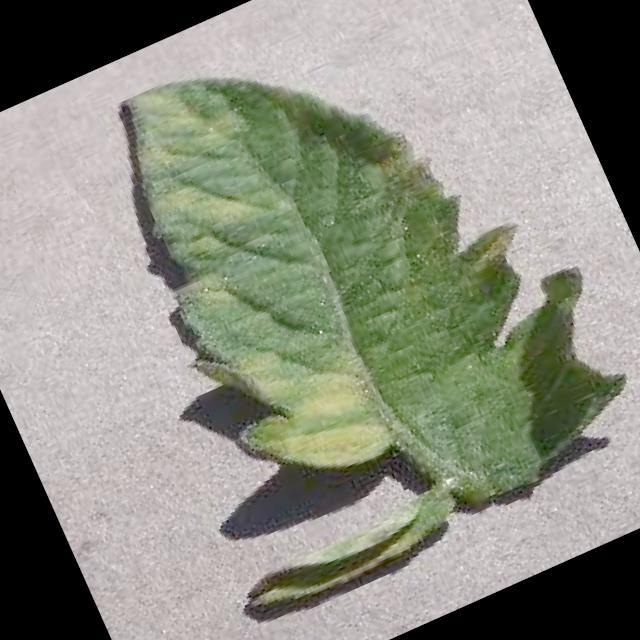Tomato mold leaf: (83, 0, 640, 596)
